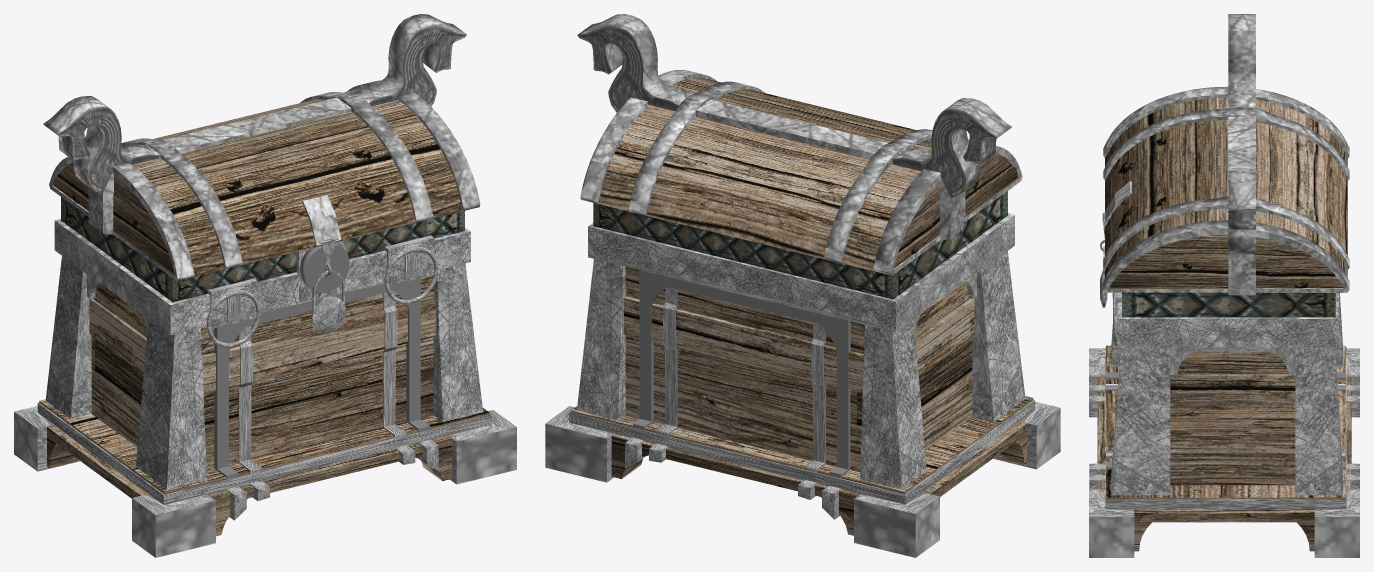
File: god_of_war_2018_common_chest.glb
3 views of the same model, side by side, from view 1: azimuth 30°, elevation 25°; view 2: azimuth 150°, elevation 25°; view 3: azimuth 270°, elevation 25° (orthographic). The views are drawn at different scales.
Visible parts, largest first — view 1: Cube.004_4, Circle_2, Cube.002_1, Cube.001_0, Circle.002_3; view 2: Cube.004_4, Circle_2, Cube.002_1, Cube.001_0; view 3: Circle_2, Cube.004_4, Cube.002_1, Cube.001_0.
Part boxes in pixels (x1,y1,x2,y2): Cube.004_4: (14,219,516,557); Circle_2: (43,14,480,280); Cube.002_1: (61,197,464,470); Cube.001_0: (39,399,490,494); Circle.002_3: (311,270,346,333); Cube.004_4: (545,213,1060,557); Circle_2: (577,14,1022,275); Cube.002_1: (593,191,1007,472); Cube.001_0: (570,396,1033,493); Circle_2: (1102,14,1349,295); Cube.004_4: (1089,240,1359,557); Cube.002_1: (1122,292,1335,485); Cube.001_0: (1106,345,1345,499).
Bounding box in the file's own units: 3.34 × 3.07 × 2.
Materials: 6 (5 with a texture image).
